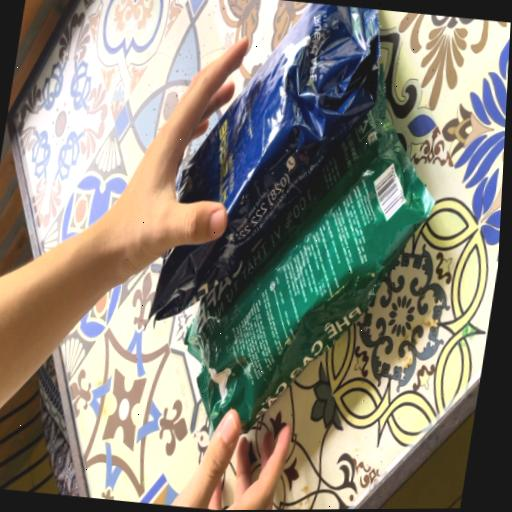cafe_hat: (150, 2, 379, 319)
cafe_xay: (185, 144, 434, 431)
